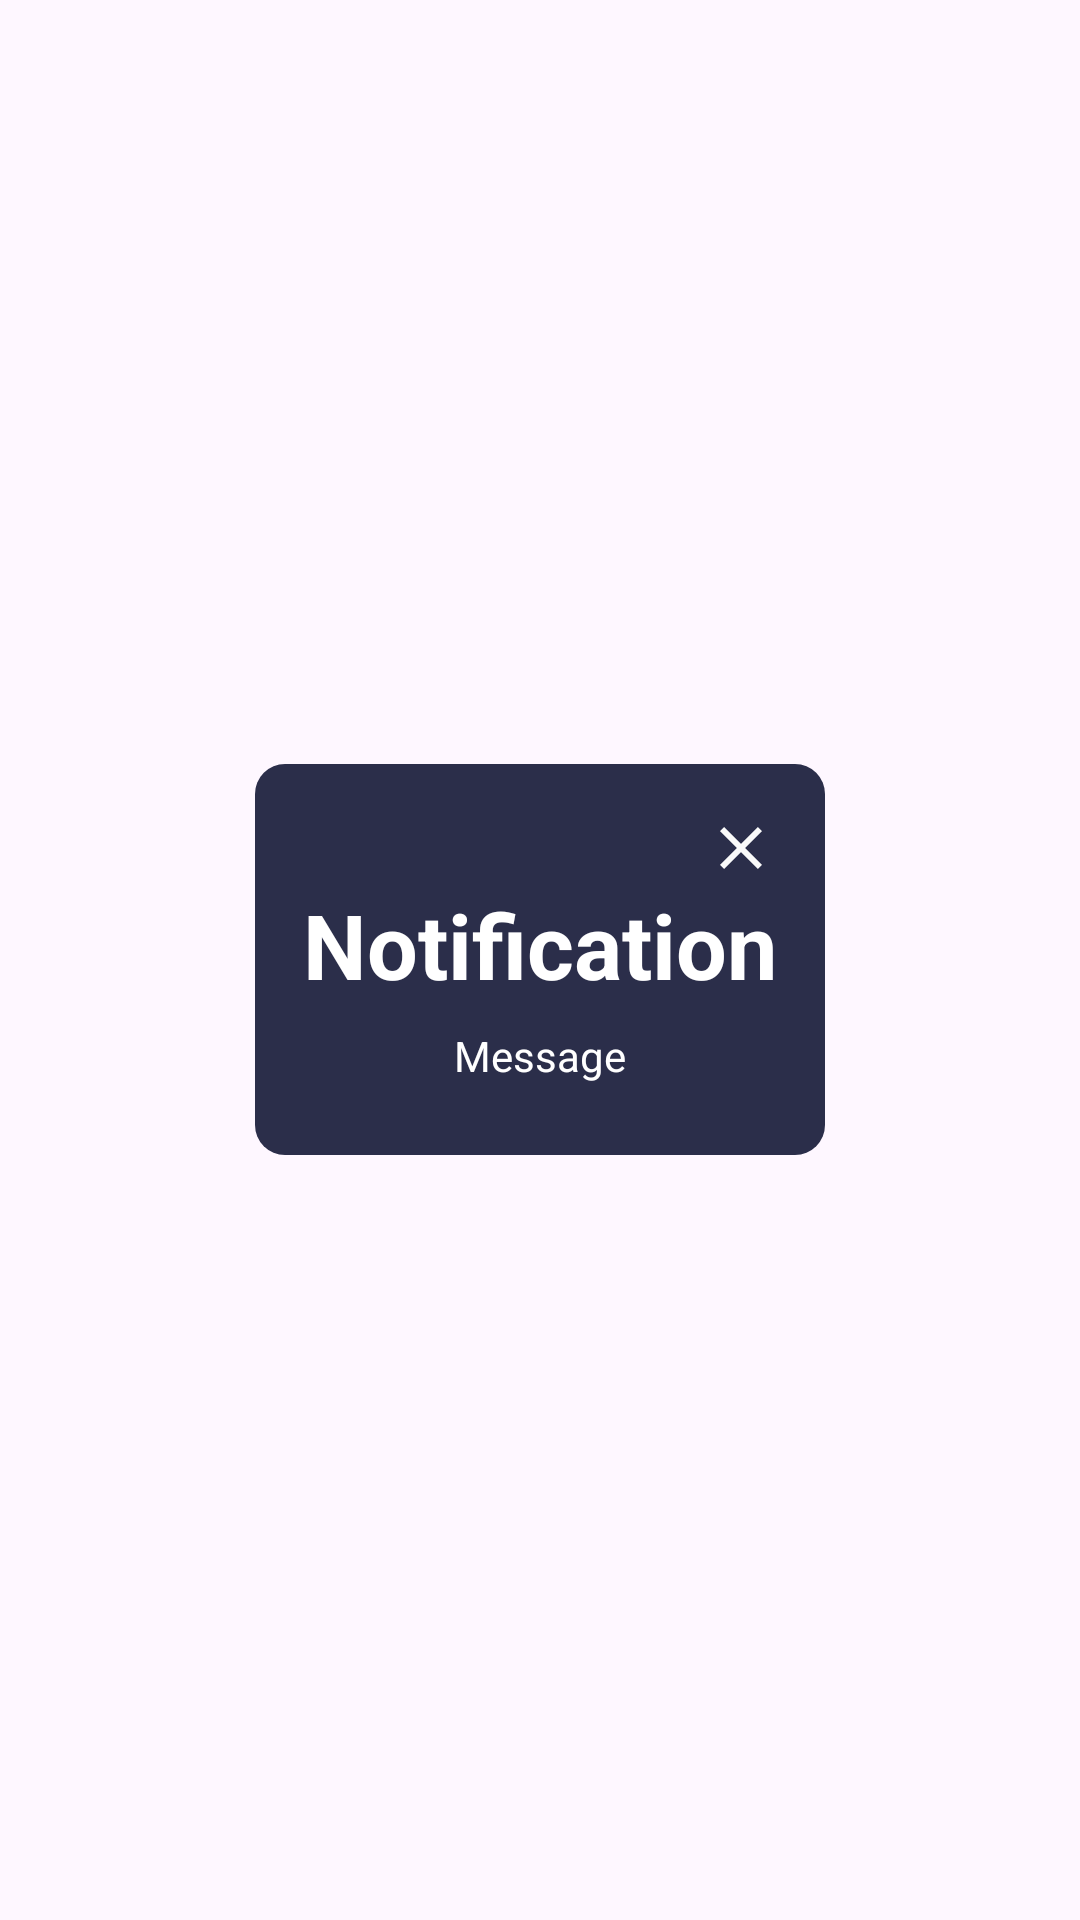

Where icons sit on this 1080 × 1920 app screen, as (x1, y1, x2, y2):
Close: (720, 827, 762, 869)
